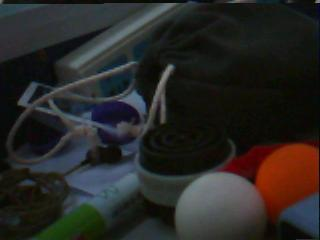oball: (256, 143, 320, 219)
